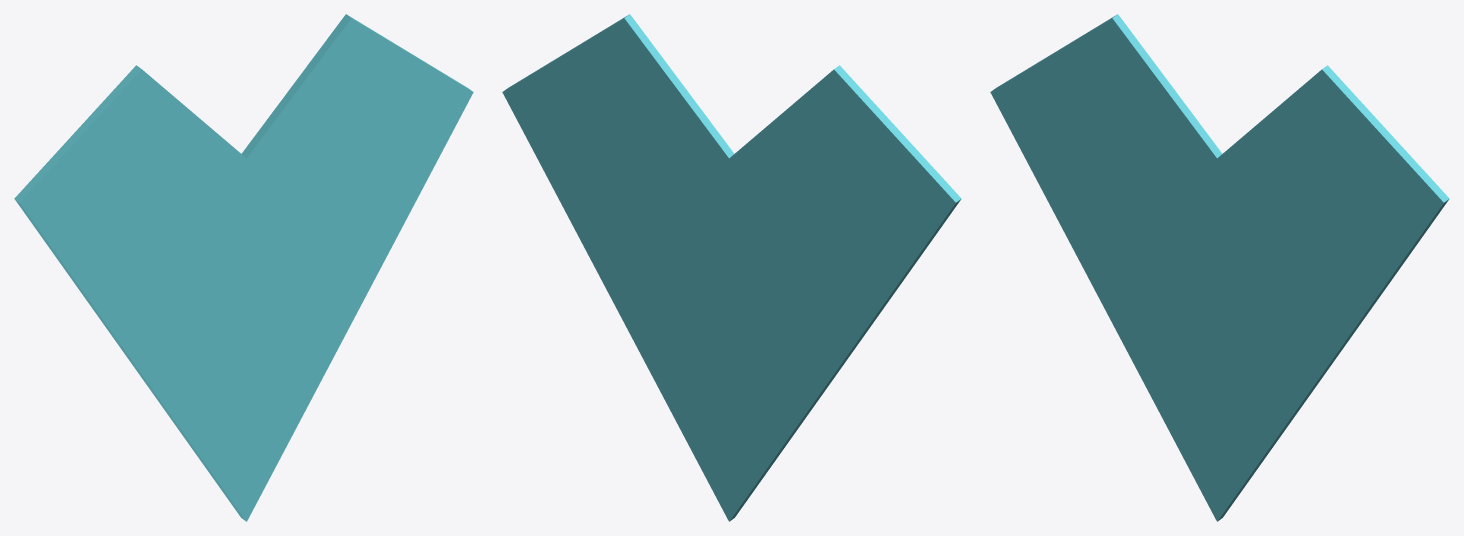
Rendered from Heart.fbx.
The picture shows the model from 3 angles, left to right: view 1: azimuth 30°, elevation 25°; view 2: azimuth 150°, elevation 25°; view 3: azimuth 330°, elevation 25°; orthographic projection.
Visible parts, largest first — view 1: Cube.009; view 2: Cube.009; view 3: Cube.009.
Boxes of the visible parts, bbox=[...] form: Cube.009: bbox=[14, 14, 473, 521]; Cube.009: bbox=[502, 14, 961, 521]; Cube.009: bbox=[990, 14, 1449, 521].
Size of the model in its own units: 204 by 205 by 4.44.
